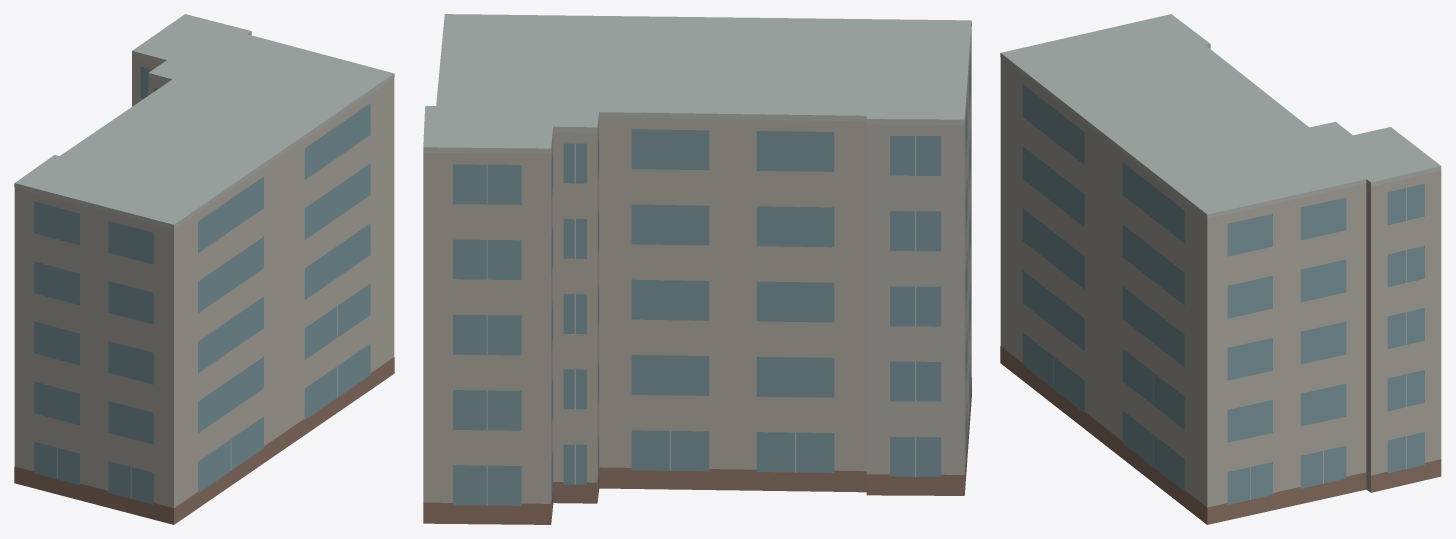
File: survey-upis-32586007.glb
3 renders of one model, left to right at view 1: azimuth 30°, elevation 25°; view 2: azimuth 150°, elevation 25°; view 3: azimuth 270°, elevation 25°, orthographic. The views are drawn at different scales.
Visible parts, largest first — view 1: survey-upis-32586007.tmp; view 2: survey-upis-32586007.tmp; view 3: survey-upis-32586007.tmp.
Part boxes in pixels (x1,y1,x2,y2): survey-upis-32586007.tmp: [14, 14, 394, 524]; survey-upis-32586007.tmp: [423, 14, 971, 524]; survey-upis-32586007.tmp: [1000, 14, 1441, 524].
Size of the model in its own units: 23.42 by 16.9 by 21.77.
